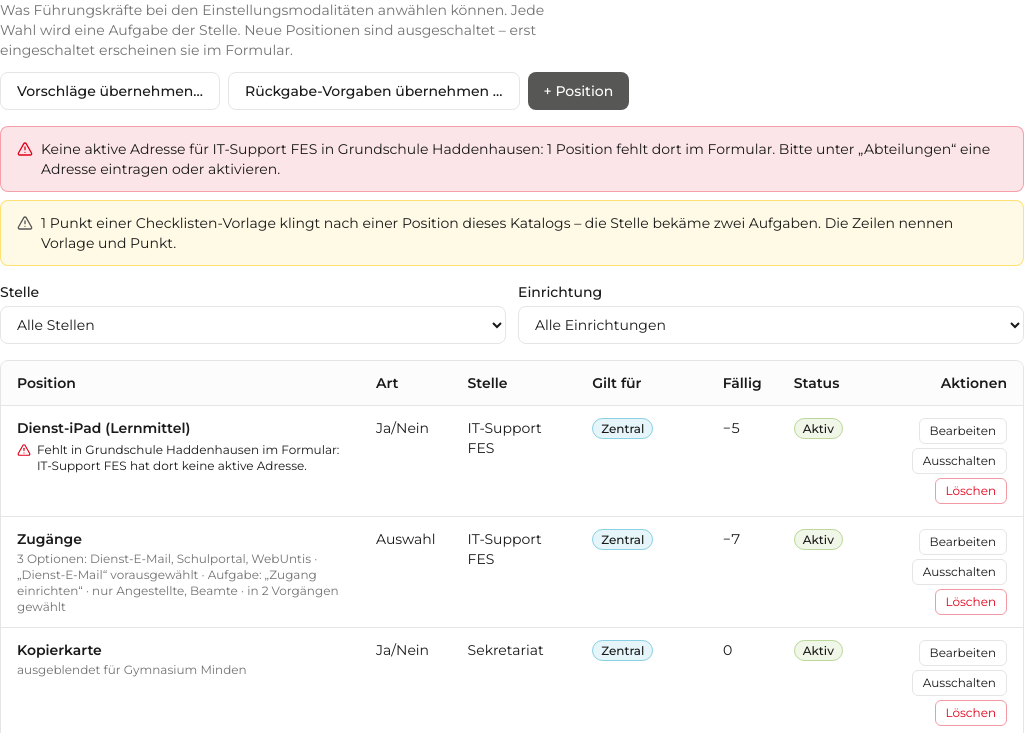
Test: Dialog „Neue Position“ › gesperrt mit Grund, bis Stelle und Bezeichnung da sind; sendet das ganze Formular
Step 1. Click the button "+ Position" → (578, 91), box [528,72,629,110]
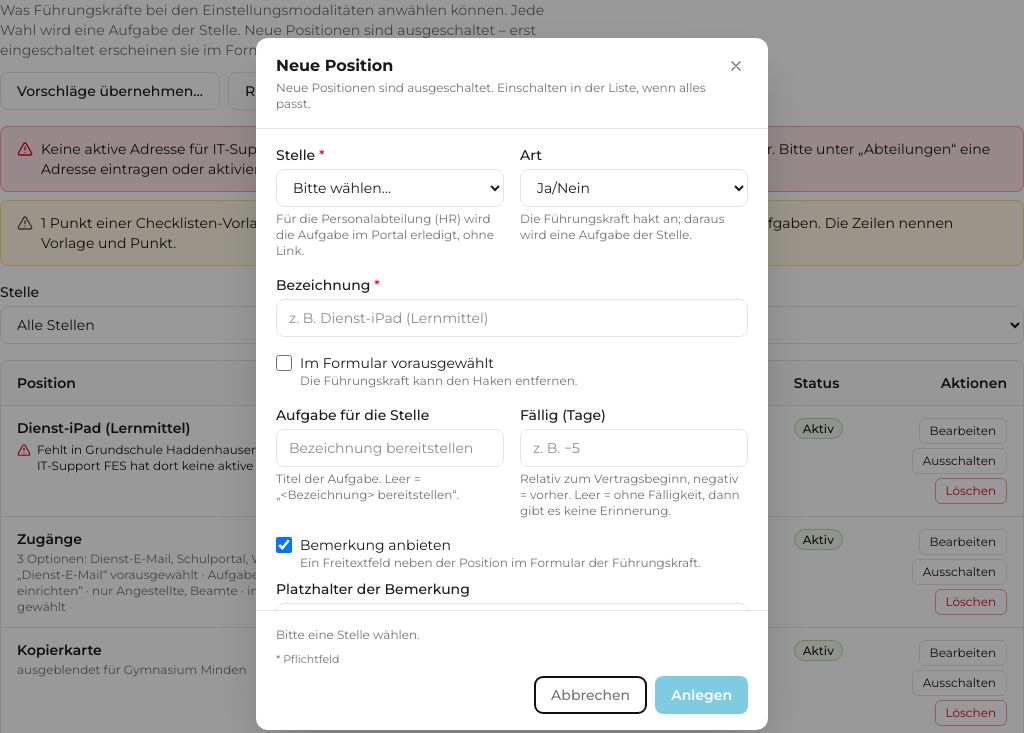
Result: the heading "Neue Position" is shown at [276,56,393,75]
Result: the button "Anlegen" is disabled at [655,676,748,714]
Result: the text "Bitte eine Stelle wählen." is shown at [276,627,420,642]
Step 2. Select "IT-Support FES (IT)" in the dropdown labelled "Stelle *" → (390, 188), box [276,169,504,207]
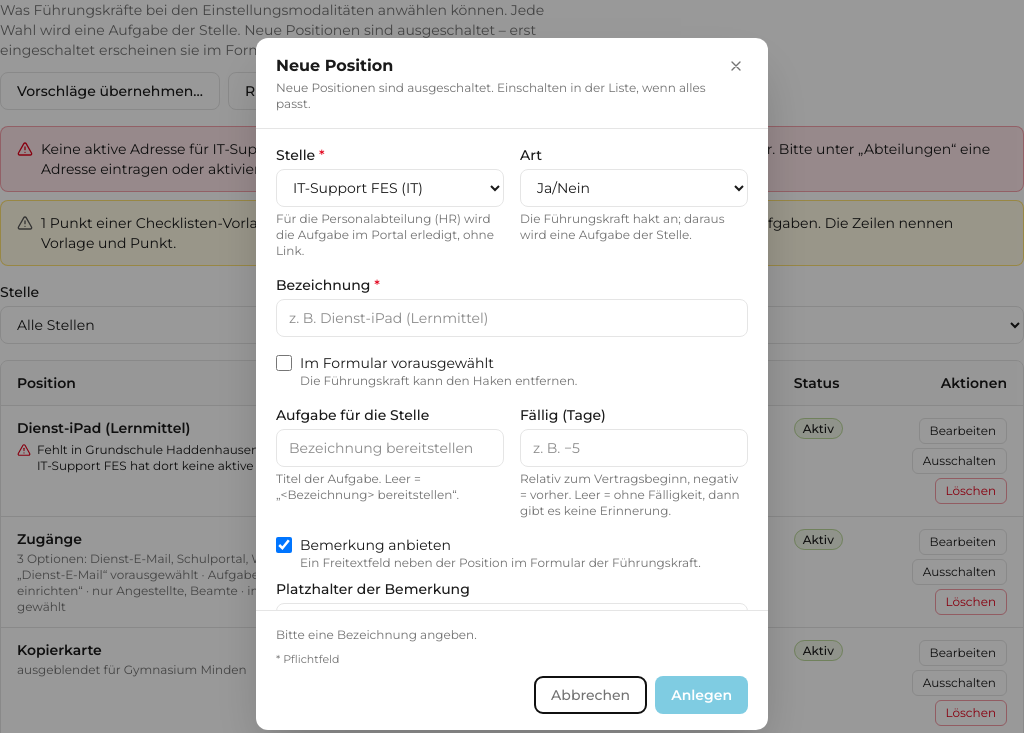
Result: the text "Bitte eine Bezeichnung angeben." is shown at [276,627,477,642]
Step 3. Type "  Dienst-Laptop/PC " into the field labelled "Bezeichnung *" → (512, 318), box [276,299,748,337]
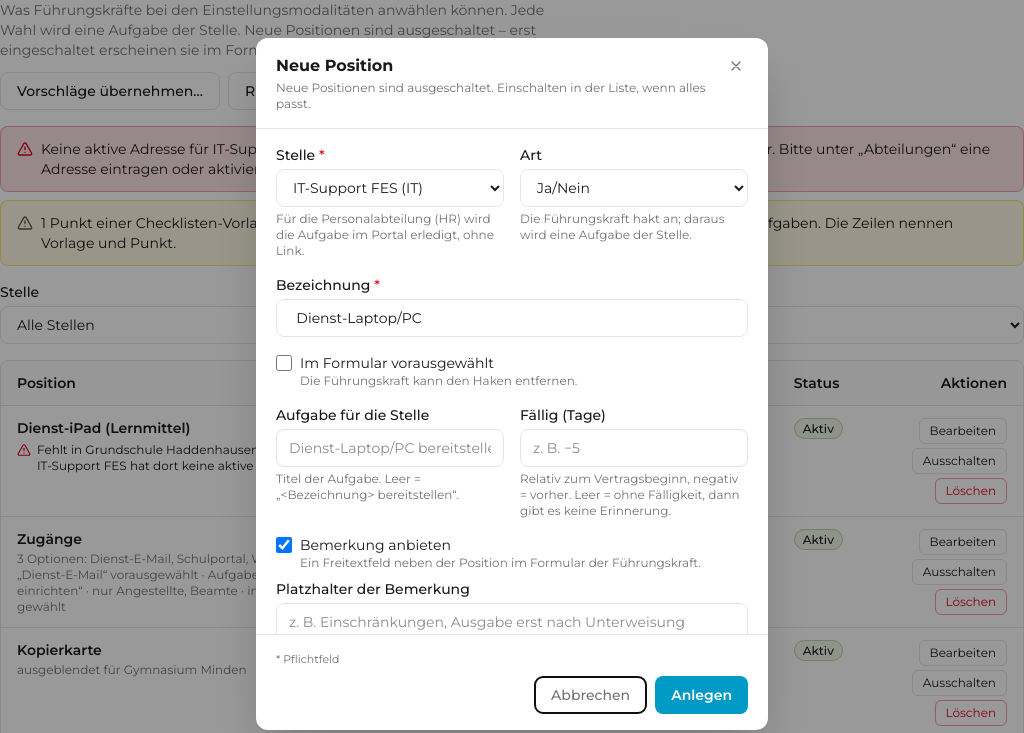
Step 4. Type "−5" into the field labelled "Fällig (Tage)" → (634, 448), box [520,429,748,467]
(page scrolled)
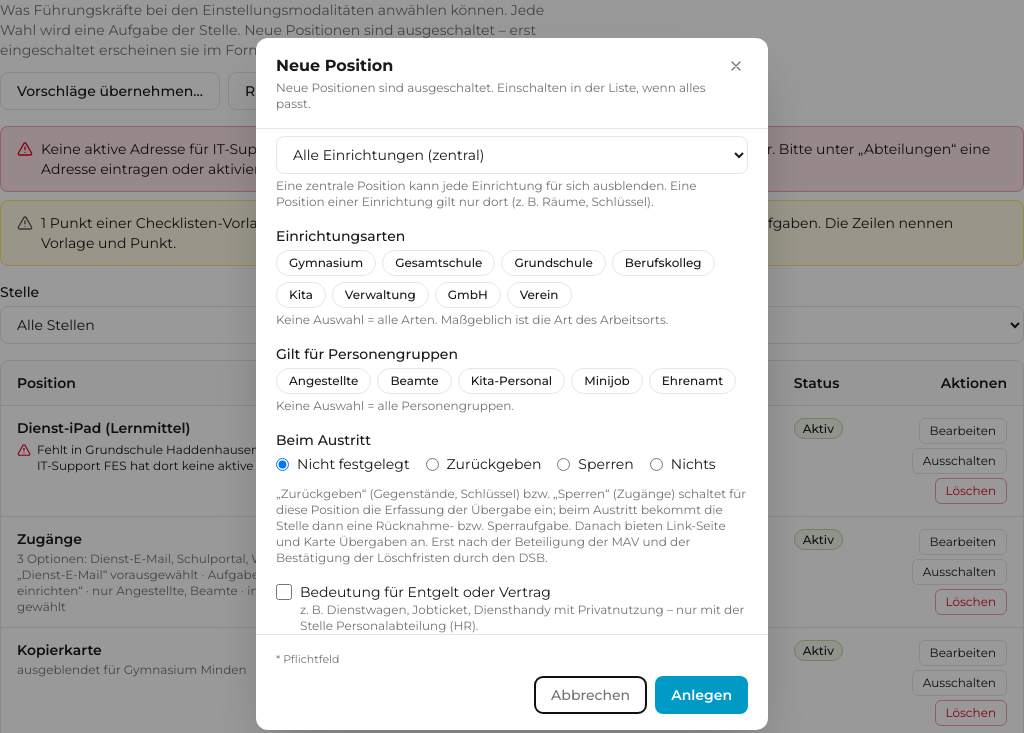
Step 5. Click the button "Beamte" → (415, 381), box [378,368,452,394]
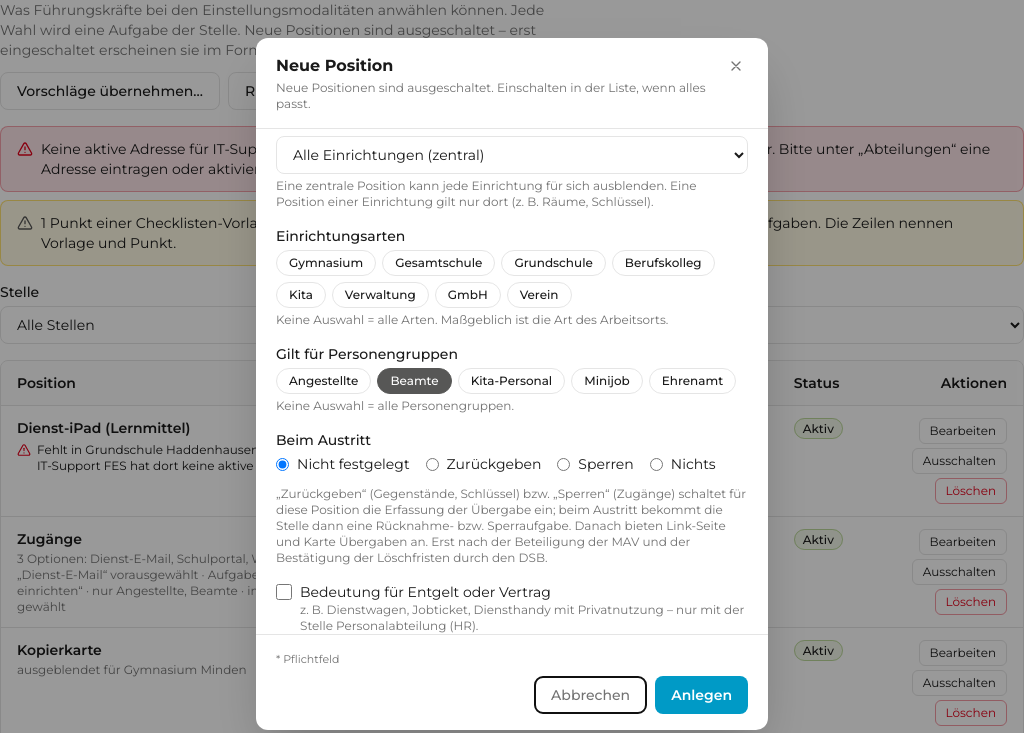
Result: the button "Anlegen" is enabled
Step 6. Click the button "Anlegen" → (702, 695), box [655,676,748,714]
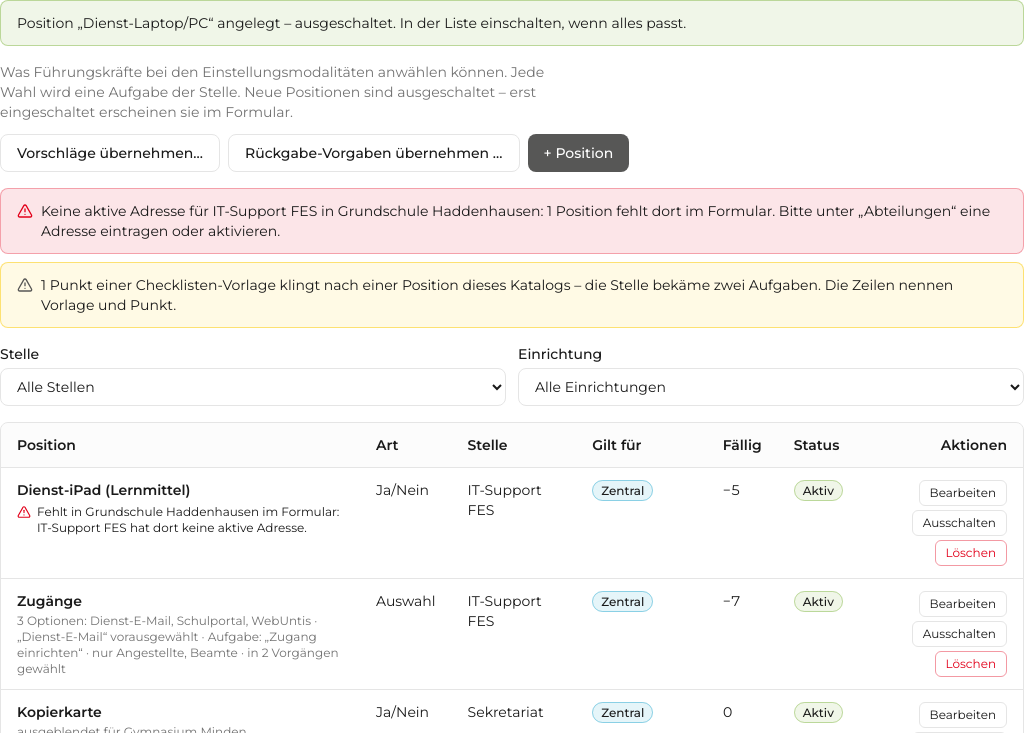
Result: the text "Position „Dienst-Laptop/PC“ angelegt – ausgeschaltet." is shown at [17,14,686,32]
